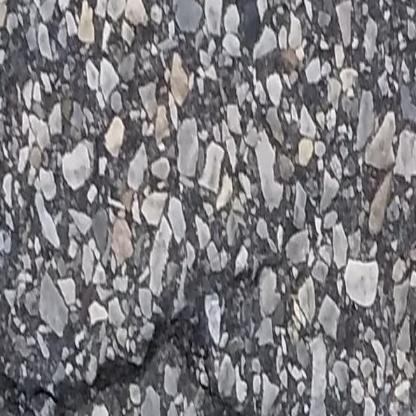Cracks: (0, 231, 314, 416)
